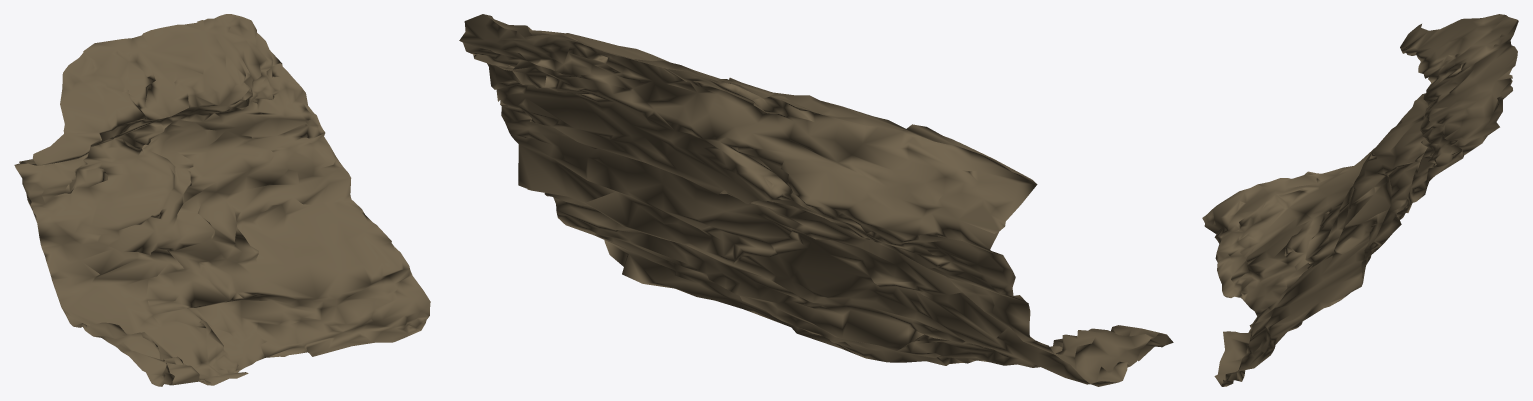
Rendered from rock_face_01-lod1.glb.
The picture shows the model from 3 angles, left to right: view 1: azimuth 30°, elevation 25°; view 2: azimuth 150°, elevation 25°; view 3: azimuth 270°, elevation 25°; orthographic projection. The views are drawn at different scales.
Parts seen in each view (by area): view 1: rock_face_01; view 2: rock_face_01; view 3: rock_face_01.
Boxes of the visible parts, x1,y1,x2,y2 form: rock_face_01: (14, 14, 430, 386); rock_face_01: (459, 14, 1173, 386); rock_face_01: (1202, 14, 1518, 386).
Size of the model in its own units: 4.94 by 3.56 by 3.82.
